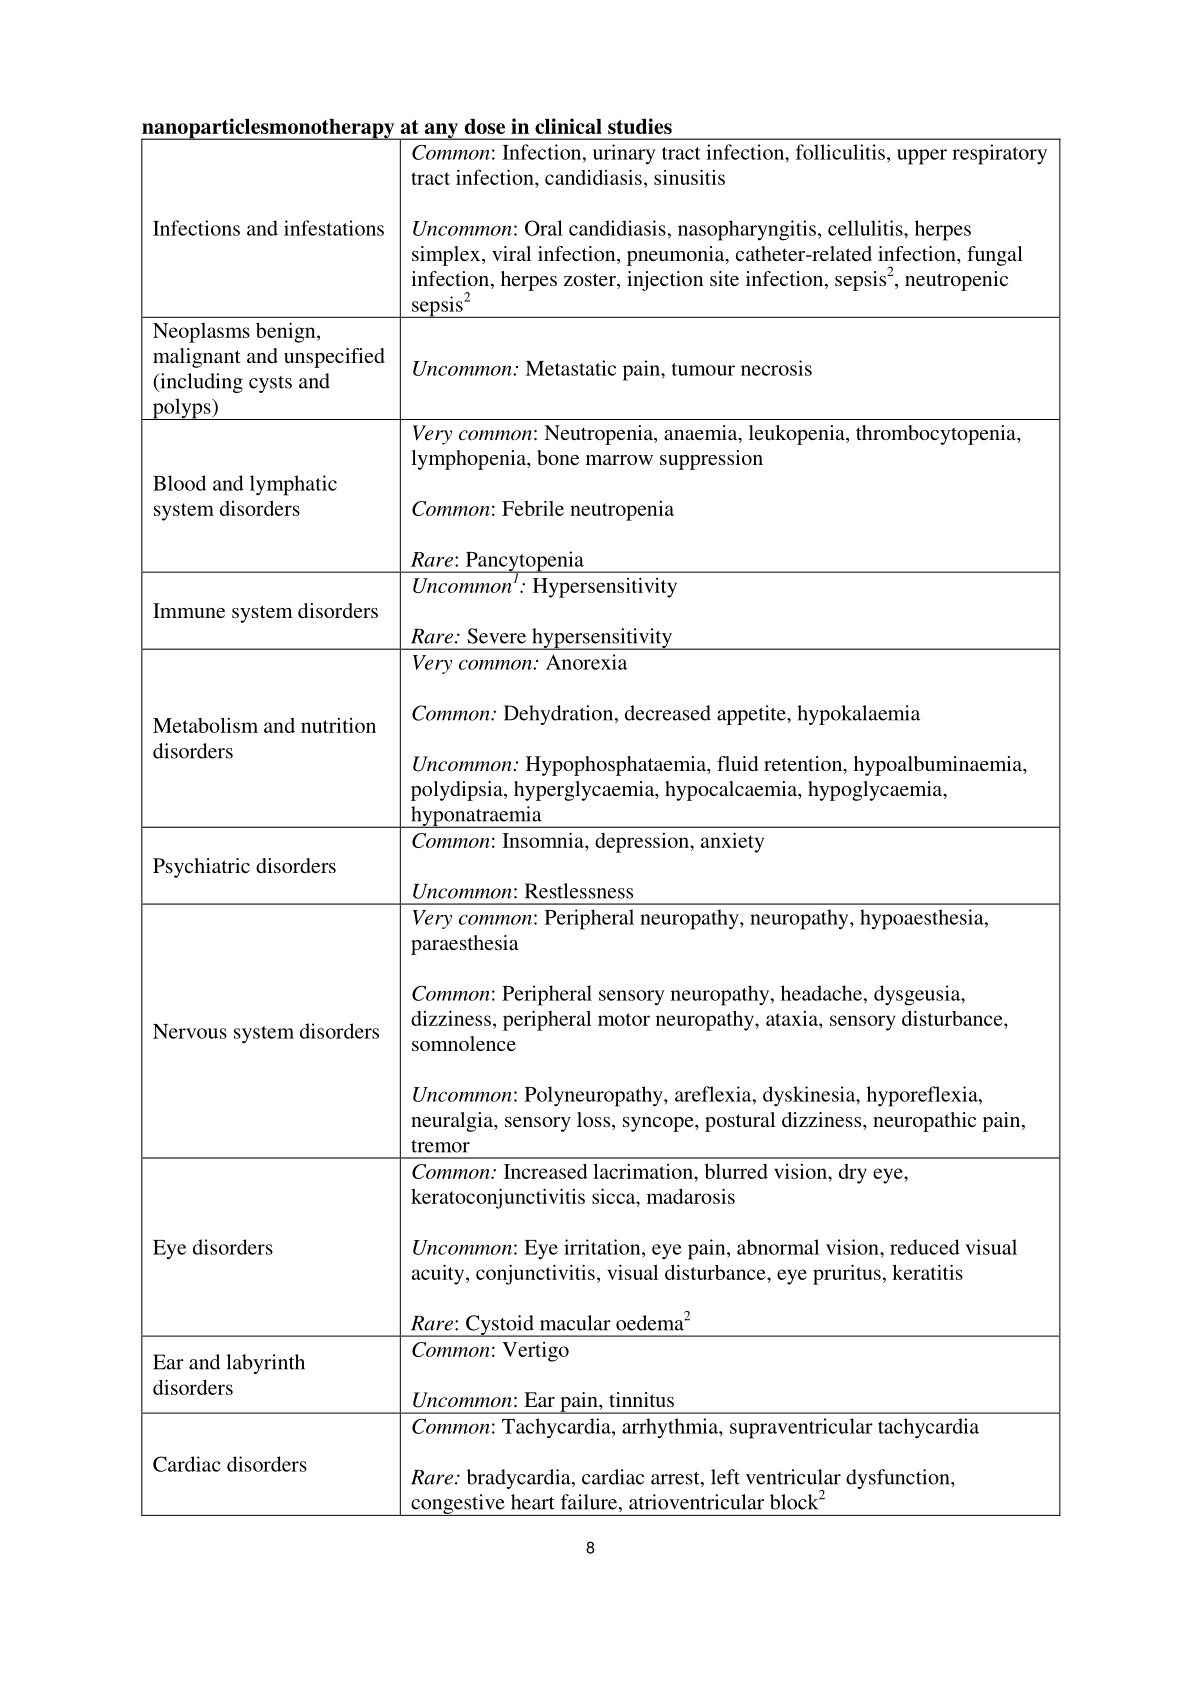full_lined: (140, 138, 1061, 1516)
